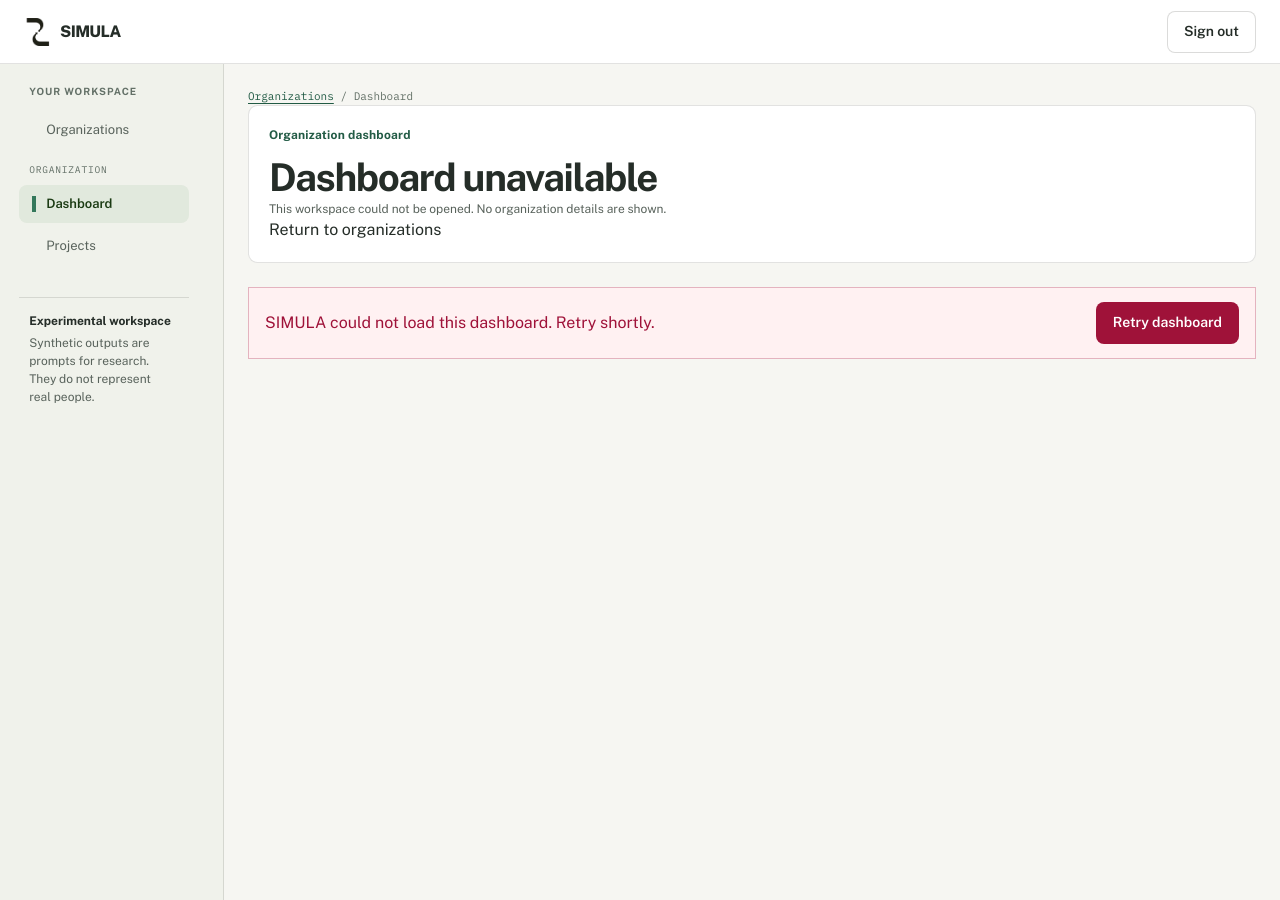
OrganizationDashboardWorkspace › renders a generic denial heading and clears it after a successful retry
The width and height of the screenshot is (1280, 900).
expect the heading "Dashboard unavailable" is shown: met, box [269,154,657,200]
expect the message shows "SIMULA could not load this dashboard.": met, box [265,313,655,332]
Click the button "Retry dashboard" at {"x": 1167, "y": 323}, box [1096,302,1239,344]
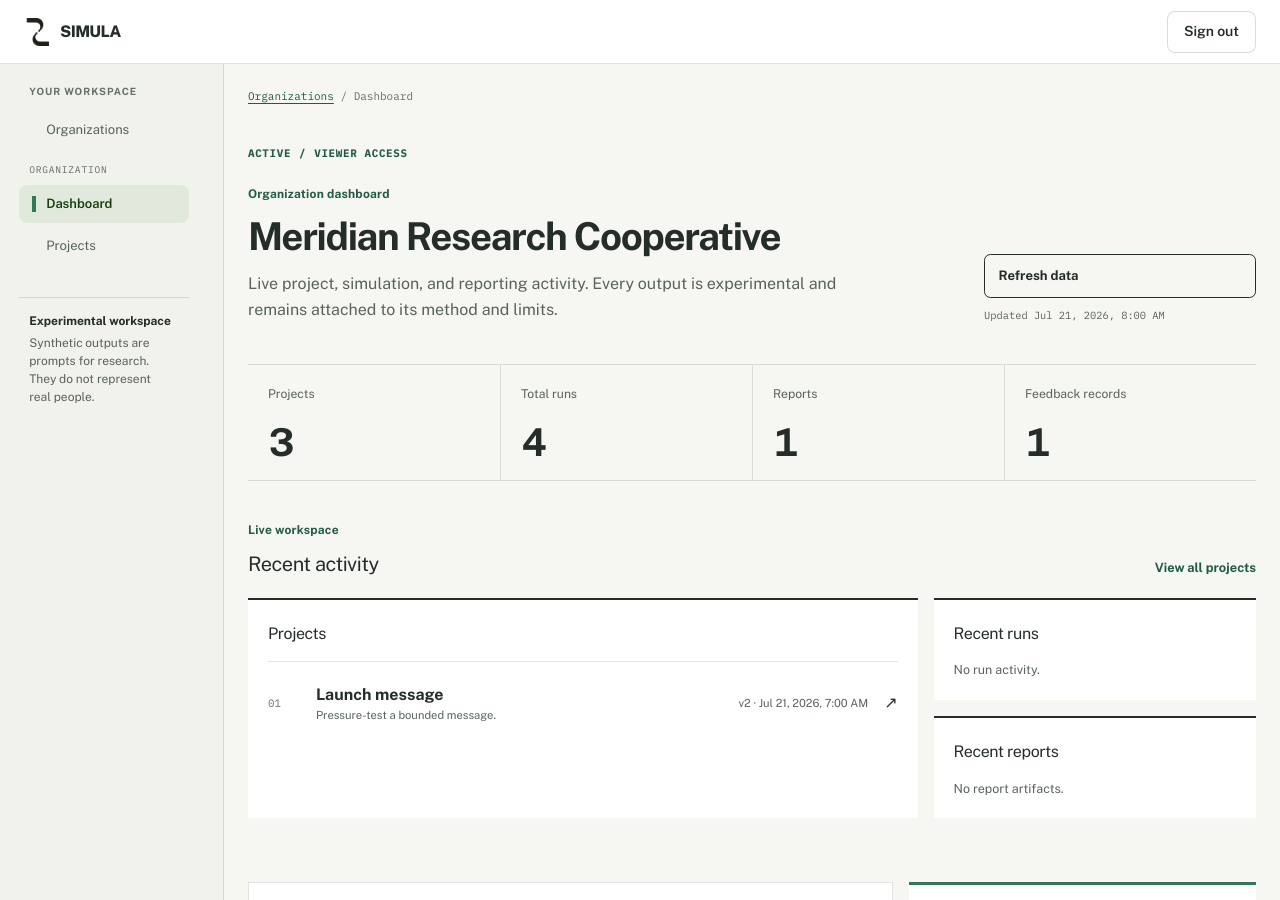
expect the heading "Meridian Research Cooperative" is shown: met, box [248,214,780,259]
expect the heading "Dashboard unavailable" is gone: met
expect the message "SIMULA could not load this dashboard. Retry shortly. Retry dashboard" is gone: met
